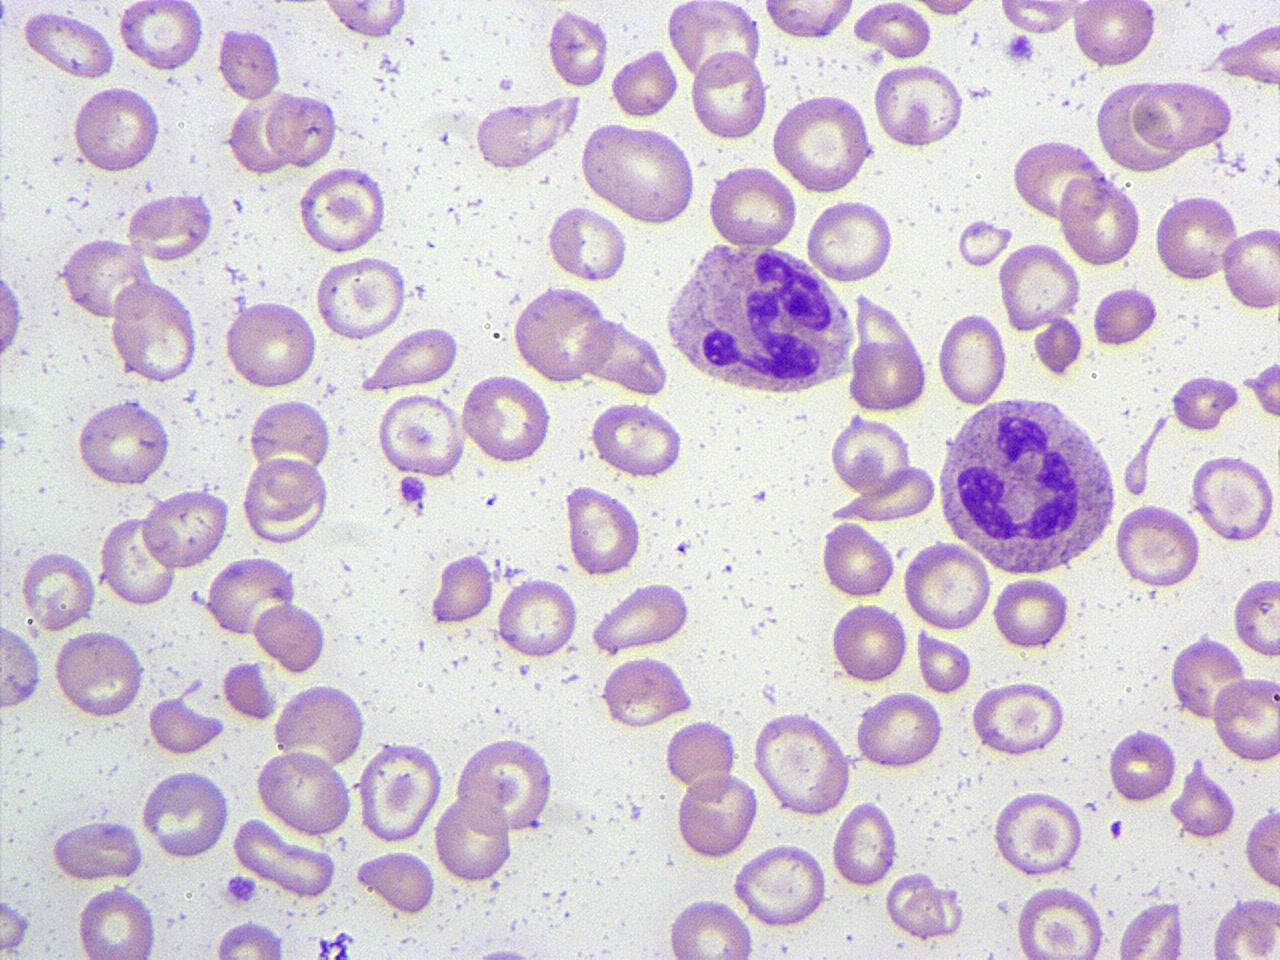Platelets: (1171, 373, 1237, 435), (224, 873, 259, 906), (1002, 32, 1035, 64), (397, 473, 427, 504), (962, 81, 995, 102), (319, 937, 351, 959), (1214, 19, 1234, 42), (332, 929, 355, 947), (1108, 818, 1124, 840), (497, 75, 514, 91), (0, 0, 9, 27)
RBC: (579, 120, 698, 224), (752, 708, 853, 818), (770, 91, 876, 194), (454, 735, 558, 836), (510, 284, 614, 384), (847, 296, 930, 414), (75, 395, 174, 489), (110, 280, 200, 384), (231, 814, 338, 899), (357, 740, 443, 844), (731, 840, 830, 930), (459, 373, 554, 466), (223, 298, 318, 390), (272, 681, 369, 771), (992, 789, 1086, 880), (70, 83, 161, 176), (139, 768, 232, 860), (52, 628, 145, 720), (296, 162, 387, 256), (1010, 135, 1106, 224), (666, 0, 765, 86), (374, 390, 469, 479), (254, 750, 352, 836), (901, 541, 993, 631), (870, 63, 967, 148), (968, 679, 1070, 759), (1131, 76, 1235, 155), (241, 455, 332, 546), (205, 552, 297, 640), (312, 254, 408, 340), (1188, 453, 1278, 544), (803, 197, 896, 284), (588, 398, 686, 480), (1113, 500, 1201, 591), (1152, 192, 1238, 285), (706, 164, 798, 249), (1059, 173, 1141, 268), (673, 770, 759, 860), (141, 486, 232, 571), (60, 236, 152, 320), (853, 690, 945, 772), (99, 514, 179, 608), (589, 582, 692, 654), (584, 313, 670, 398), (998, 241, 1079, 332), (689, 49, 769, 142), (565, 482, 642, 578), (600, 654, 696, 730), (20, 6, 117, 82), (247, 394, 334, 478), (432, 793, 512, 883), (1014, 884, 1107, 960), (496, 576, 580, 659), (1169, 634, 1247, 724), (936, 310, 1008, 406), (830, 598, 910, 685), (546, 201, 628, 284), (472, 96, 560, 172), (830, 414, 912, 497), (830, 460, 936, 523), (818, 516, 897, 601), (19, 547, 97, 632), (117, 0, 206, 74), (362, 324, 460, 390), (124, 191, 214, 262), (74, 884, 157, 960), (50, 816, 145, 882), (992, 573, 1071, 651), (1211, 673, 1279, 764), (833, 797, 899, 888), (226, 93, 298, 176), (663, 716, 739, 796), (1071, 0, 1157, 69), (666, 894, 755, 960), (265, 89, 336, 168), (254, 600, 328, 676), (216, 23, 284, 103), (1169, 760, 1235, 842), (610, 43, 680, 119), (1106, 727, 1176, 803), (1220, 224, 1280, 312), (546, 6, 610, 89), (882, 870, 956, 940), (430, 551, 495, 626), (852, 2, 934, 61), (145, 695, 223, 756), (1209, 893, 1279, 960), (1114, 897, 1186, 960), (1090, 284, 1160, 348), (370, 848, 436, 915), (1121, 409, 1169, 500), (1219, 18, 1279, 89), (1170, 372, 1238, 434), (761, 0, 859, 42), (1231, 574, 1279, 658), (0, 619, 44, 711), (319, 0, 411, 40), (916, 629, 972, 695), (221, 659, 278, 720), (1035, 312, 1085, 376), (1243, 804, 1279, 891), (954, 216, 1011, 270), (211, 920, 286, 960), (1, 258, 26, 377), (996, 0, 1076, 35), (1243, 356, 1280, 419), (0, 890, 33, 954)
WBC: (932, 392, 1122, 578), (662, 236, 858, 402), (455, 734, 560, 834), (514, 283, 616, 384), (76, 395, 177, 490), (142, 772, 234, 862), (1170, 370, 1240, 432), (1114, 899, 1184, 959)
